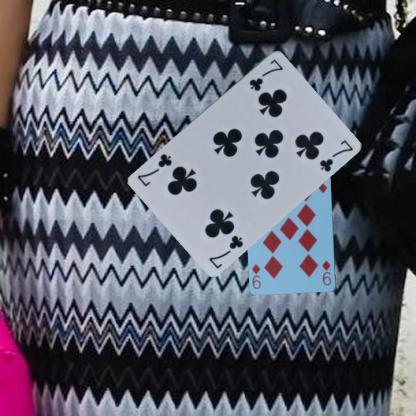7c: (206, 232, 244, 270), (247, 56, 284, 92)
9d: (320, 258, 332, 287)
